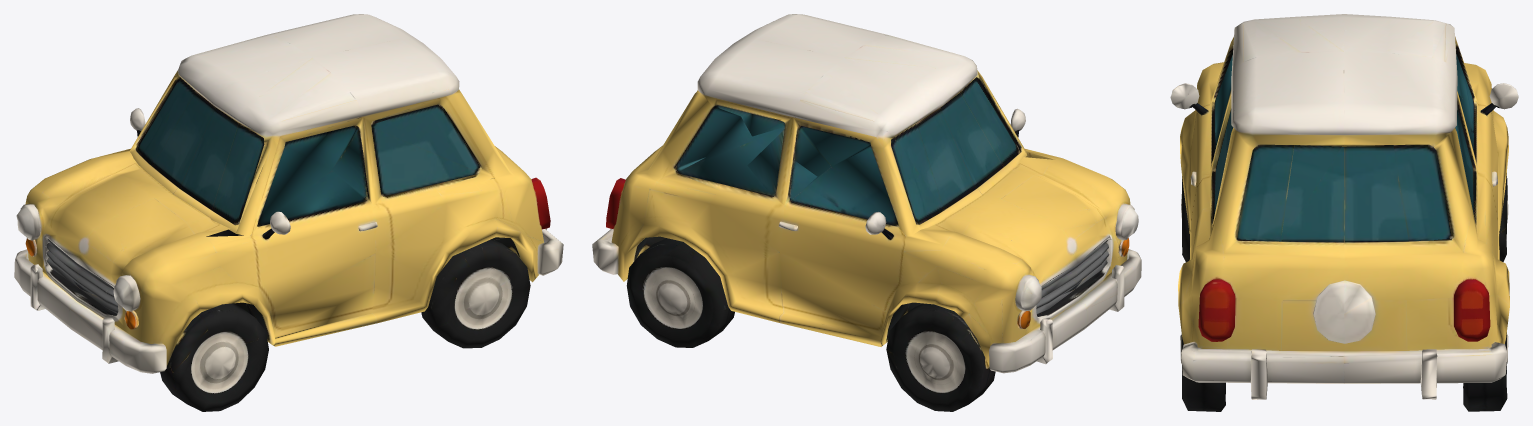
The model's file is f1c9e330-ee14-405f-85a7-2cde23bfba6c.glb.
3 views of the same model, side by side, from view 1: azimuth 30°, elevation 25°; view 2: azimuth 150°, elevation 25°; view 3: azimuth 270°, elevation 25° (orthographic). The views are drawn at different scales.
Visible parts, largest first — view 1: Mesh_0; view 2: Mesh_0; view 3: Mesh_0.
Part boxes in pixels (x1=…): Mesh_0: x1=14, y1=14, x2=563, y2=411; Mesh_0: x1=592, y1=14, x2=1141, y2=411; Mesh_0: x1=1170, y1=14, x2=1518, y2=411.
Bounding box in the file's own units: 2.33 × 1.35 × 1.42.
Materials: 1 (1 with a texture image).
